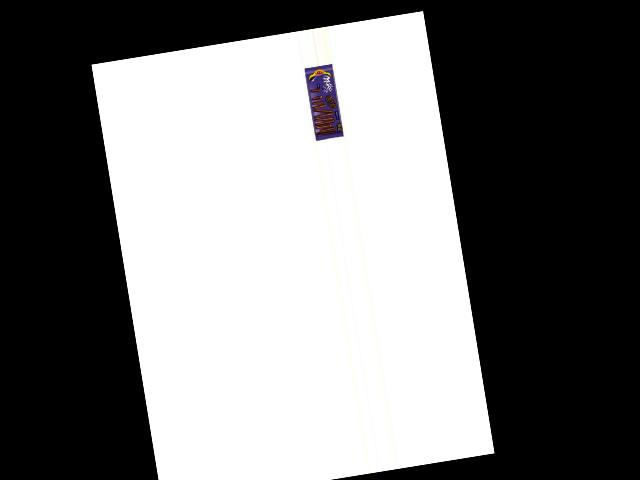chocolate: (300, 63, 344, 143)
